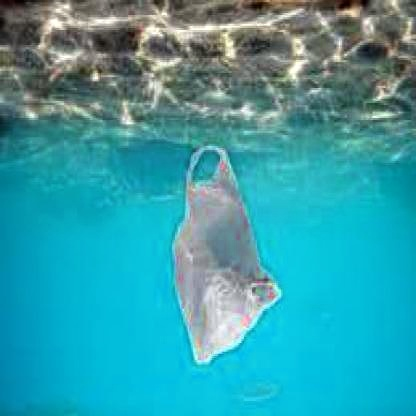pbag: (170, 144, 281, 366)
